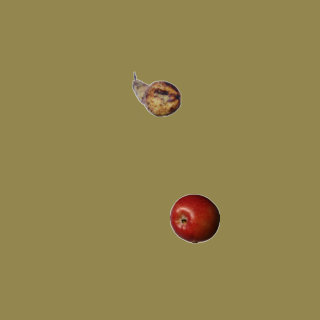Apple Braeburn: (169, 193, 219, 243)
Pear Abate: (131, 69, 181, 119)
